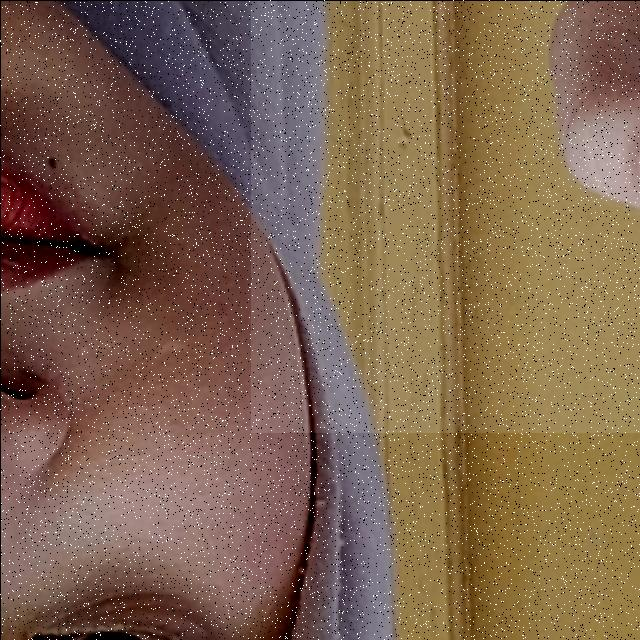baik: (250, 0, 640, 432)
